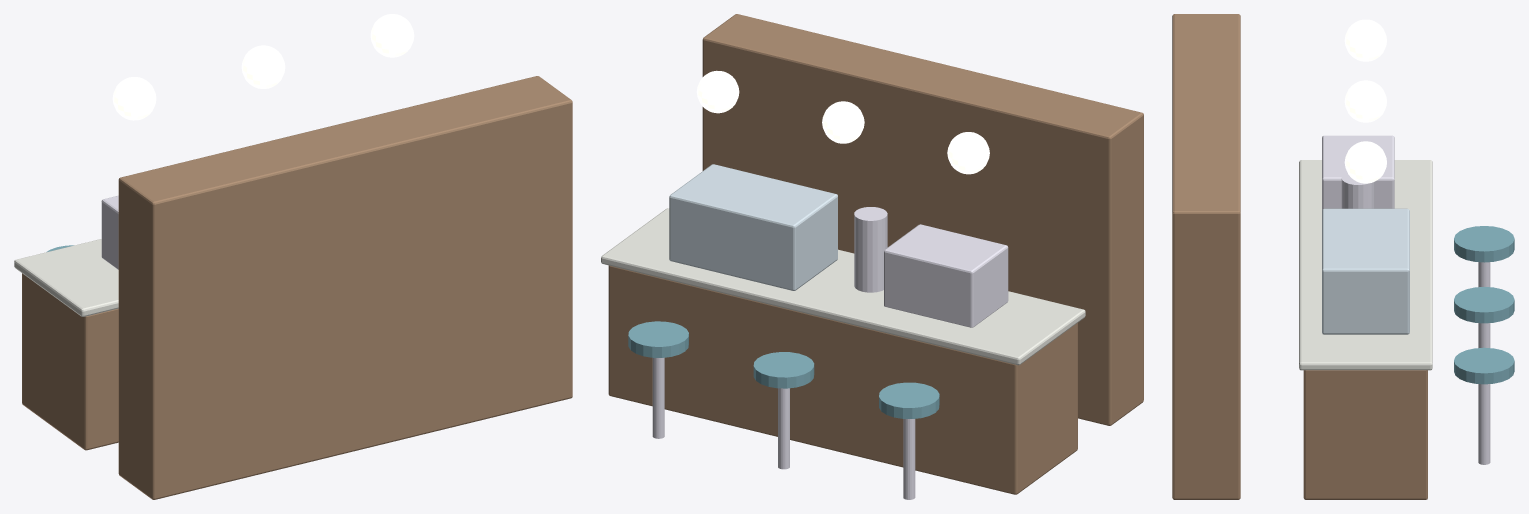
File: webtoon_cafe_counter_fixture_cluster.glb
3 renders of one model, left to right at view 1: azimuth 30°, elevation 25°; view 2: azimuth 150°, elevation 25°; view 3: azimuth 270°, elevation 25°, orthographic. The views are drawn at different scales.
Visible parts, largest first — view 1: BackBarCabinet, PendantLight_0; view 2: BackBarCabinet, PendantLight_0; view 3: BackBarCabinet, PendantLight_0.
Part boxes in pixels (left/top/right/bottom): BackBarCabinet: left=14, top=76, right=572, bottom=499; PendantLight_0: left=112, top=14, right=414, bottom=120; BackBarCabinet: left=601, top=14, right=1143, bottom=499; PendantLight_0: left=696, top=70, right=989, bottom=174; BackBarCabinet: left=1172, top=14, right=1514, bottom=499; PendantLight_0: left=1344, top=19, right=1386, bottom=183.
Size of the model in its own units: 3.18 by 2.32 by 2.25.
Materials: 2 (2 with a texture image).
